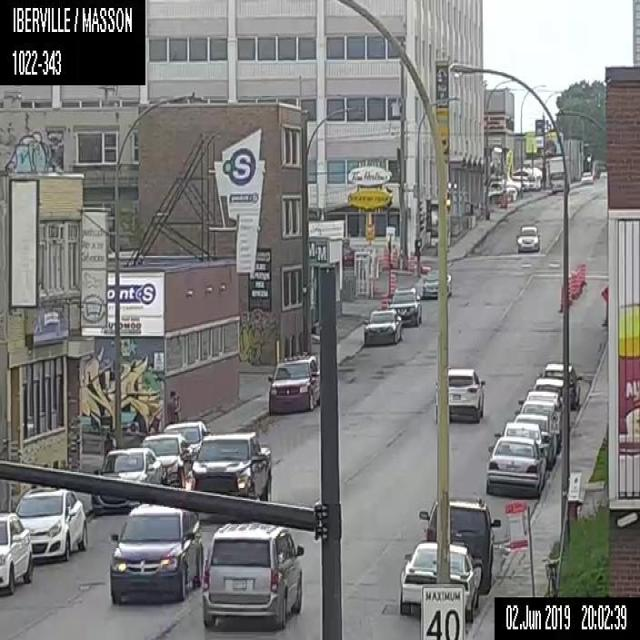construction: (599, 284, 607, 324), (558, 281, 564, 312), (406, 252, 414, 275), (389, 273, 395, 296), (580, 262, 586, 284), (381, 247, 387, 269), (391, 247, 396, 270), (381, 295, 387, 308)
pedestrian: (167, 388, 180, 424), (101, 431, 115, 458)
vehicle: (200, 520, 305, 630), (109, 499, 203, 606), (417, 497, 501, 594), (398, 541, 482, 623), (185, 429, 272, 498), (13, 486, 87, 562), (90, 447, 163, 517), (494, 421, 548, 490), (484, 436, 540, 498), (266, 350, 320, 414), (137, 433, 193, 492), (512, 400, 560, 460), (435, 367, 485, 422), (509, 414, 559, 469), (0, 511, 33, 593), (517, 387, 561, 445), (536, 360, 582, 410), (162, 421, 206, 458), (362, 307, 403, 345), (388, 286, 422, 328), (422, 268, 452, 298), (548, 155, 569, 193), (515, 224, 540, 253), (529, 376, 565, 394), (580, 169, 593, 183)
